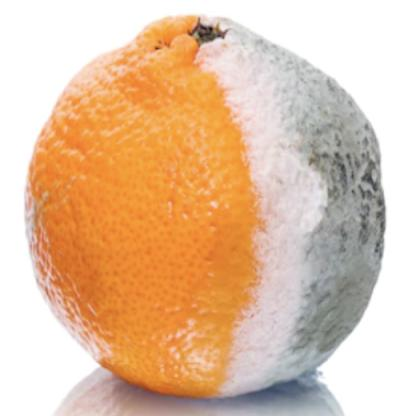rotten: (30, 13, 386, 402)
